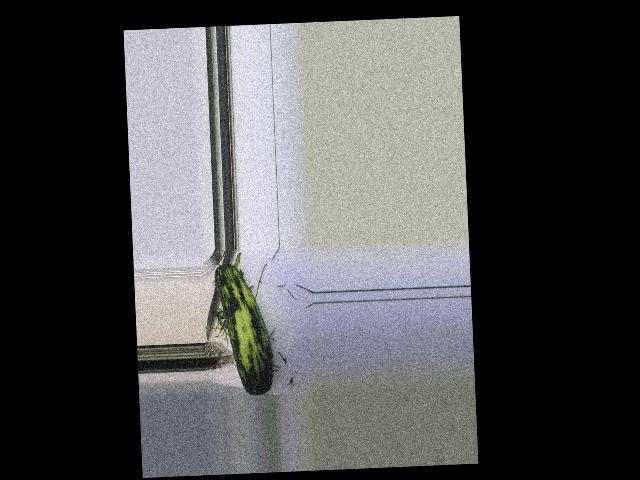cucumber: (214, 261, 274, 396)
